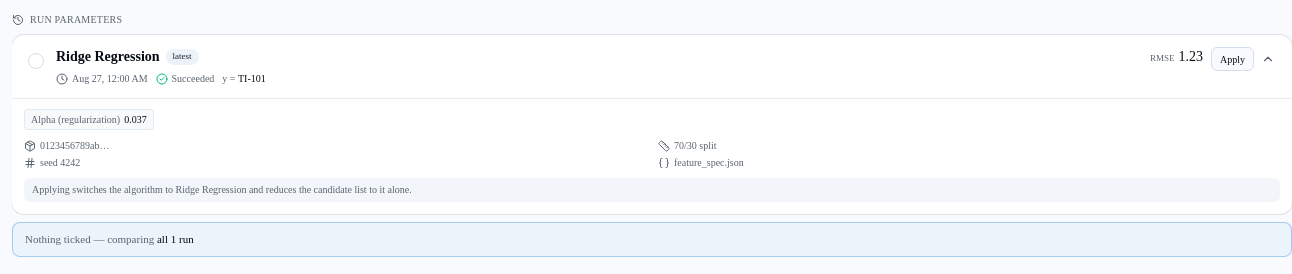
Test case: RunParamsPanel (MODEL-FLOW-012) › Apply writes the run's values into the raw atoms, never the current form's algorithm
What coordinates should you click on to do the following:
click the button "Apply"
I would click on:
 (1232, 59)
Its box is [1211, 47, 1254, 71].
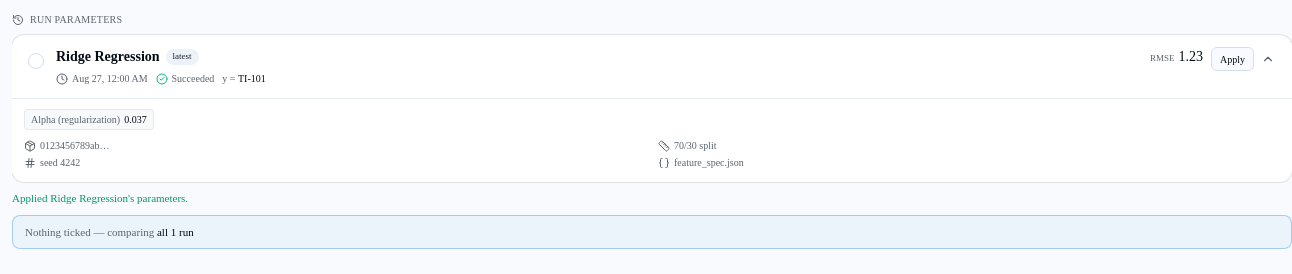
Expected: the text "Applied Ridge Regression's parameters." is shown, [12, 192, 188, 204]
